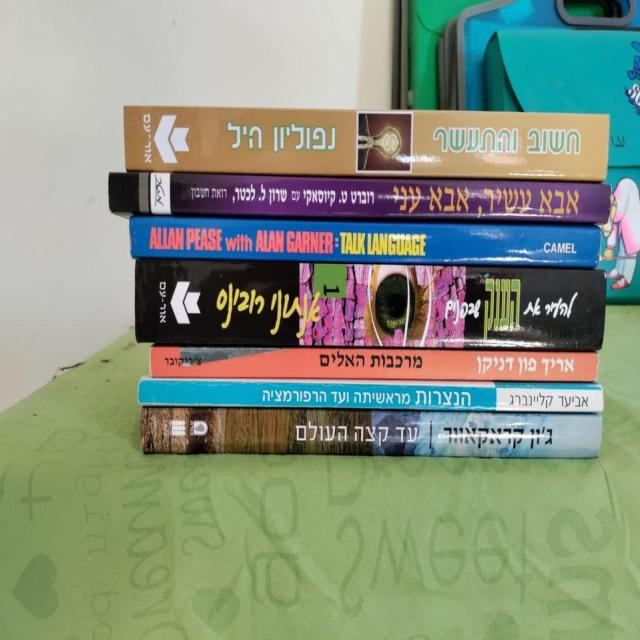book: (135, 260, 605, 350), (124, 107, 609, 179), (110, 173, 611, 221), (131, 217, 603, 267), (141, 408, 602, 456), (152, 348, 598, 381), (138, 378, 603, 409)
